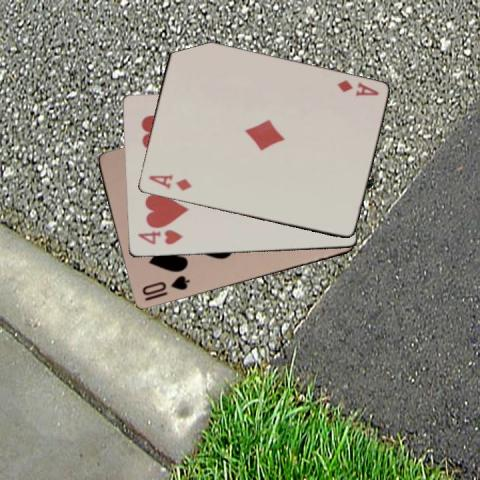10s: (138, 273, 190, 297)
4h: (134, 229, 184, 246)
Ad: (145, 172, 193, 193), (333, 77, 380, 98)
